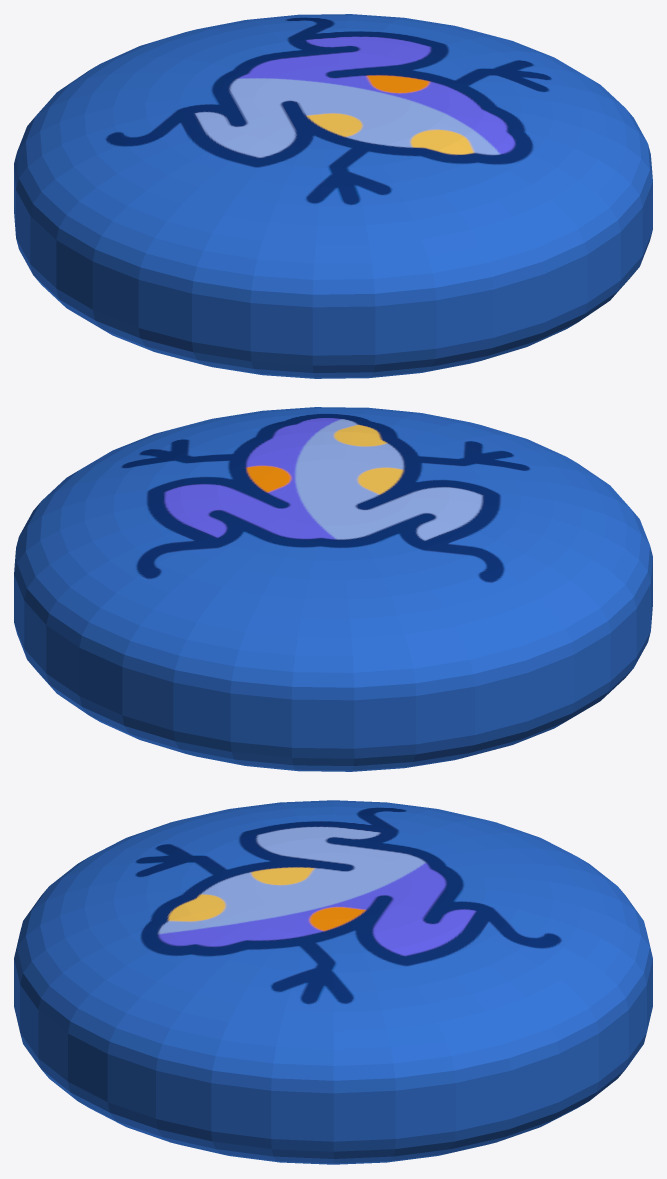
File: puckBlue.glb
3 renders of one model, top to bottom at view 1: azimuth 30°, elevation 25°; view 2: azimuth 150°, elevation 25°; view 3: azimuth 270°, elevation 25°, orthographic.
Visible parts, largest first — view 1: Cylinder; view 2: Cylinder; view 3: Cylinder.
Boxes of the visible parts, bbox=[...] form: Cylinder: bbox=[14, 14, 652, 378]; Cylinder: bbox=[14, 407, 652, 771]; Cylinder: bbox=[14, 800, 652, 1164].
Size of the model in its own units: 5.08 by 1.69 by 5.08.
Materials: 1 (1 with a texture image).
